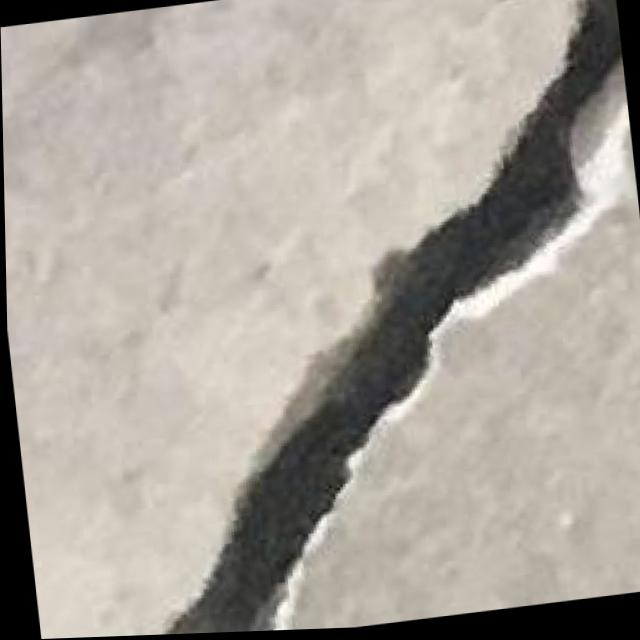Crack: (14, 19, 640, 640)
